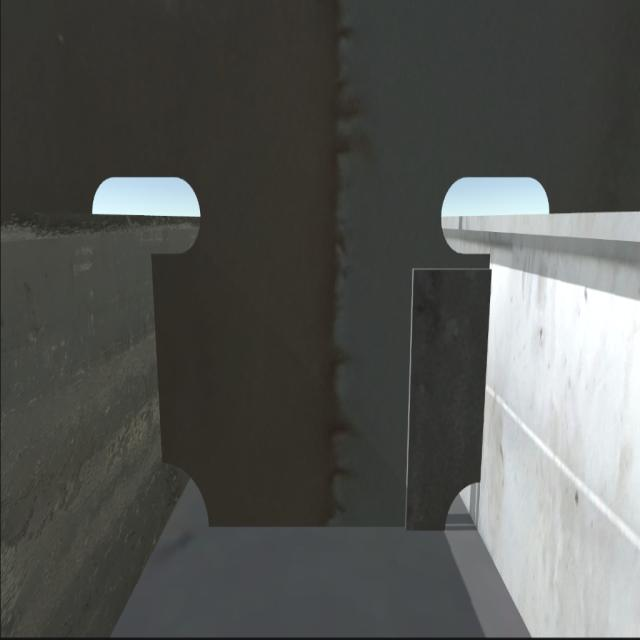fillet_hole: (164, 462, 213, 534), (445, 480, 483, 535)
fillet_yong_jeop_jang: (202, 514, 450, 540)
longi_yong_jeop_jang: (146, 244, 168, 466), (478, 250, 488, 487)
plate_CP01: (409, 264, 485, 533)
